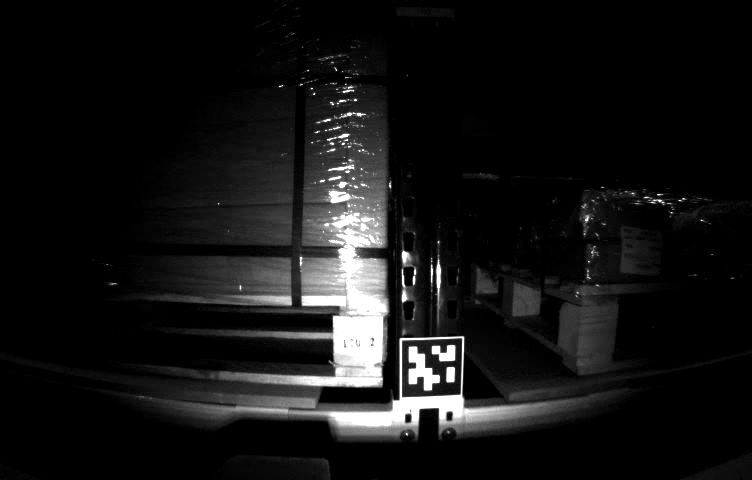True Barcode: (620, 225, 669, 282)
